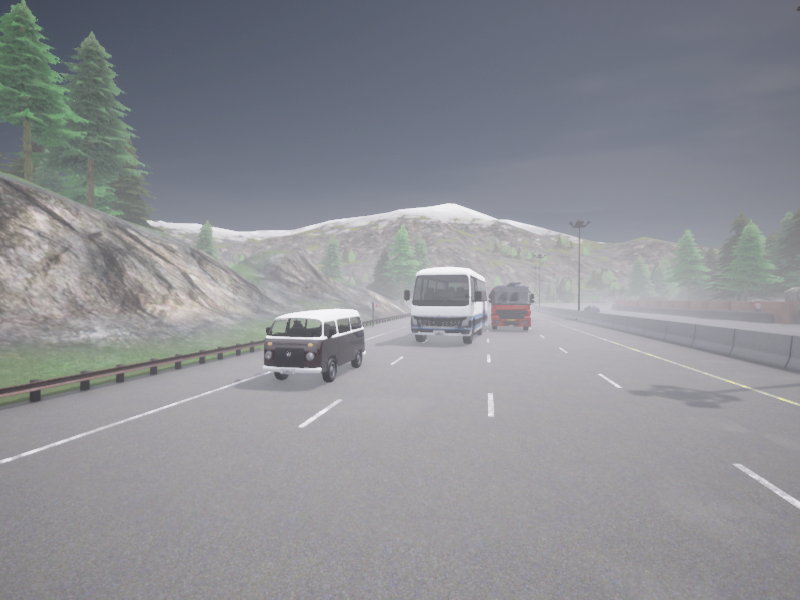vehicle: (262, 309, 365, 382), (404, 267, 487, 343), (488, 282, 533, 329), (583, 306, 599, 311)
